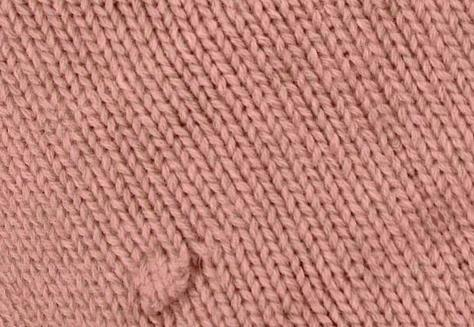knot: (130, 253, 206, 316)
